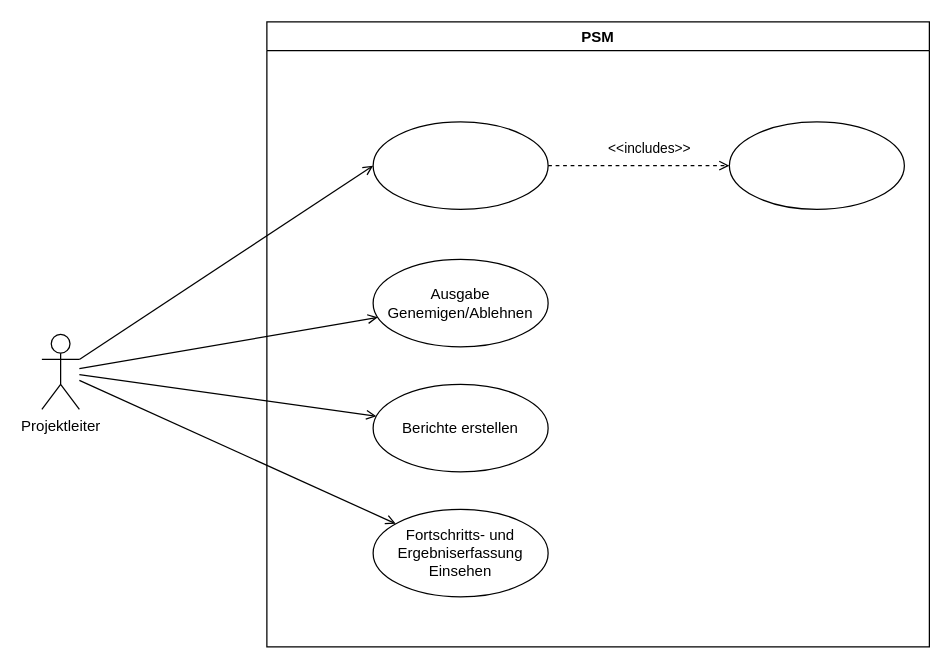
Some shapes in this 951 by 669 pixel diagram are drawn without their labels. Here are the shapes that lost their labels. From the top down, the box of each, then its label:
(372, 121, 548, 209): Projekt Genemigen/Ablehnen
(728, 121, 904, 209): Project Draft
